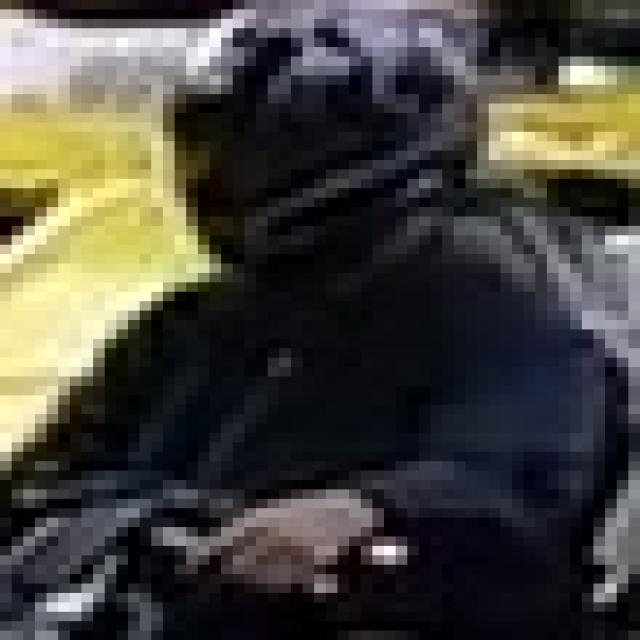door: (0, 0, 628, 630)
helmet: (163, 0, 477, 264)
